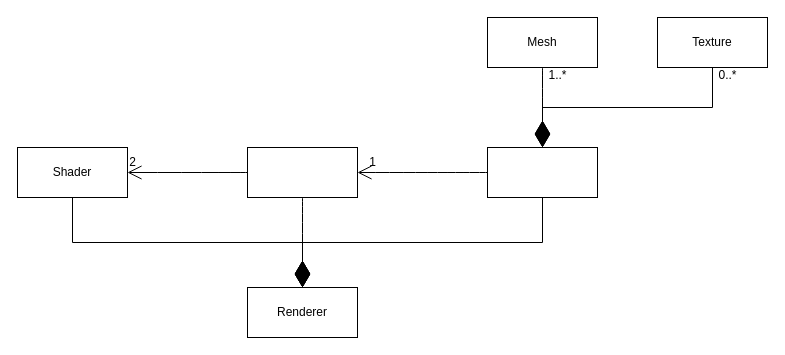
Some shapes in this 785 by 355 pixel diagram are drawn without their labels. Each missing label, with the centre of its shape:
"Model" belongs at (x=542, y=172).
"ShaderProgram" belongs at (x=302, y=172).
